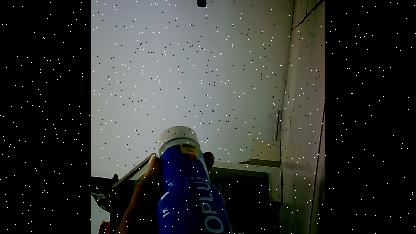Plastic Bottle: (151, 121, 258, 234)
